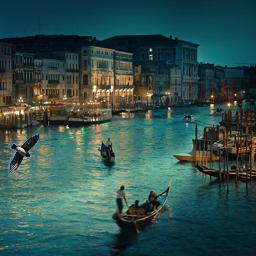Swallow: (8, 133, 39, 175)
